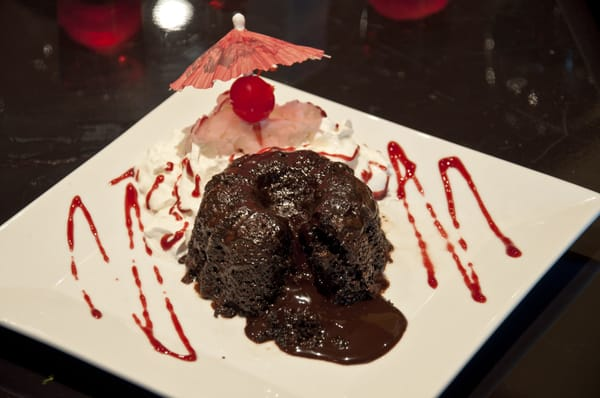curry: (11, 1, 598, 392)
sushi: (183, 147, 398, 356)
